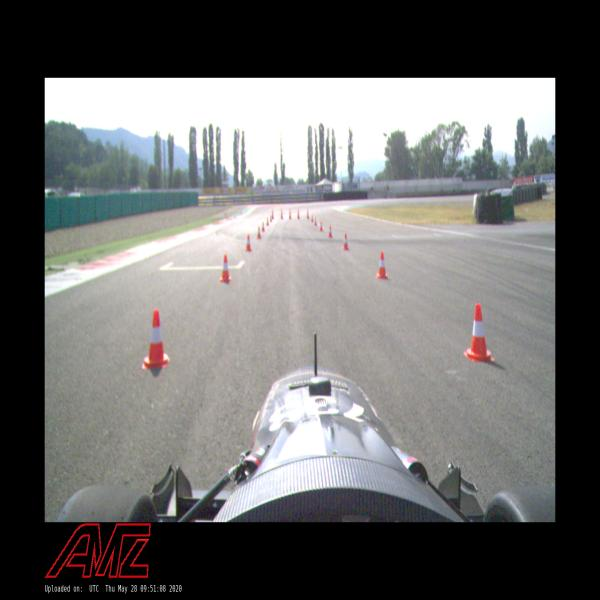large_orange_cone: (288, 209, 292, 220), (280, 209, 284, 220), (296, 209, 300, 219), (271, 209, 274, 219), (306, 209, 309, 218)
orange_cone: (463, 303, 495, 362), (142, 309, 169, 369), (375, 251, 390, 280), (219, 255, 232, 282), (244, 234, 252, 252), (342, 234, 350, 250), (328, 225, 333, 238), (256, 226, 261, 239), (261, 221, 265, 232), (319, 221, 323, 231), (314, 217, 318, 226), (266, 217, 270, 226), (311, 215, 314, 222), (270, 215, 272, 222)
